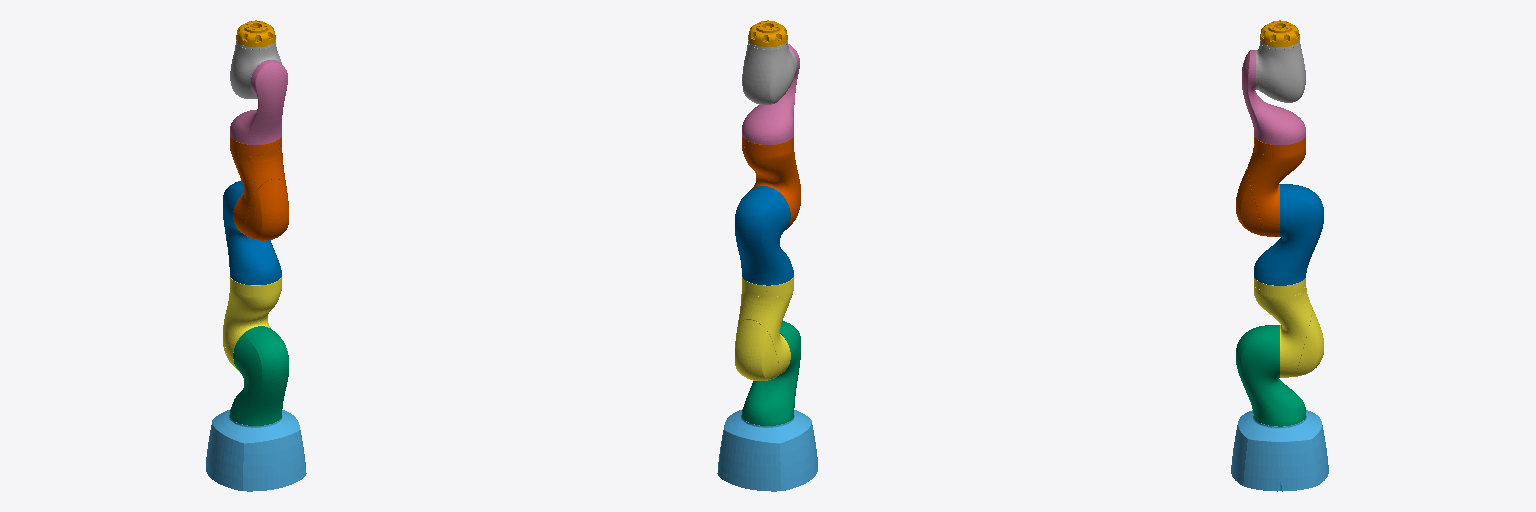
The robot description file, URDF, robot "lbr_med7":
<?xml version="1.0"?>
<!-- KUKA LBR Med 7 R800, plain URDF (xacro-expanded, ROS package paths removed).
     Source: lbr-stack/lbr_fri_ros2_stack (Apache 2.0)
     Joint limits from lbr_description/urdf/med7/joint_limits.yaml (degrees→rad).
     Visual origins are all zeroed here because the offsets have been baked into the
     OBJ mesh vertices at export time (see meshes/visual/link_N/link_N.obj). -->
<robot name="lbr_med7">

  <link name="world" />

  <joint name="lbr_world_joint" type="fixed">
    <parent link="world" />
    <child link="lbr_link_0" />
    <origin xyz="0 0 0" rpy="0 0 0" />
  </joint>

  <link name="lbr_link_0">
    <inertial>
      <origin rpy="0 0 0" xyz="-0.001896 0.0 0.076263" />
      <mass value="7.143112" />
      <inertia ixx="0.038694" ixy="0.0" ixz="-0.000686" iyy="0.039461" iyz="0.0" izz="0.054387" />
    </inertial>
    <visual>
      <origin rpy="0 0 0" xyz="0 0 0" />
      <geometry><mesh filename="meshes/visual/link_0/link_0.obj" /></geometry>
    </visual>
  </link>

  <joint name="lbr_A1" type="revolute">
    <origin rpy="0 0 0" xyz="0.0 0.0 0.1475" />
    <parent link="lbr_link_0" />
    <child link="lbr_link_1" />
    <axis xyz="0.0 0.0 1.0" />
    <limit lower="-2.9496" upper="2.9496" effort="200" velocity="1.7104" />
  </joint>

  <link name="lbr_link_1">
    <inertial>
      <origin rpy="0 0 0" xyz="0.0 -0.034819 0.123299" />
      <mass value="3.271499" />
      <inertia ixx="0.020611" ixy="0.0" ixz="0.0" iyy="0.019667" iyz="0.00366" izz="0.00729" />
    </inertial>
    <visual>
      <origin rpy="0 0 0" xyz="0 0 0" />
      <geometry><mesh filename="meshes/visual/link_1/link_1.obj" /></geometry>
    </visual>
  </link>

  <joint name="lbr_A2" type="revolute">
    <origin rpy="0 0 0" xyz="0.0 -0.0105 0.1925" />
    <parent link="lbr_link_1" />
    <child link="lbr_link_2" />
    <axis xyz="0.0 1.0 0.0" />
    <limit lower="-2.0769" upper="2.0769" effort="200" velocity="1.7104" />
  </joint>

  <link name="lbr_link_2">
    <inertial>
      <origin rpy="0 0 0" xyz="0.0 0.039793 0.086944" />
      <mass value="3.886413" />
      <inertia ixx="0.030552" ixy="0.0" ixz="0.0" iyy="0.028995" iyz="0.005676" izz="0.009317" />
    </inertial>
    <visual>
      <origin rpy="0 0 0" xyz="0 0 0" />
      <geometry><mesh filename="meshes/visual/link_2/link_2.obj" /></geometry>
    </visual>
  </link>

  <joint name="lbr_A3" type="revolute">
    <origin rpy="0 0 0" xyz="0.0 0.0105 0.2075" />
    <parent link="lbr_link_2" />
    <child link="lbr_link_3" />
    <axis xyz="0.0 0.0 1.0" />
    <limit lower="-2.9496" upper="2.9496" effort="200" velocity="1.7453" />
  </joint>

  <link name="lbr_link_3">
    <inertial>
      <origin rpy="0 0 0" xyz="0.0 0.034819 0.123299" />
      <mass value="3.271499" />
      <inertia ixx="0.020611" ixy="0.0" ixz="0.0" iyy="0.019667" iyz="-0.00366" izz="0.00729" />
    </inertial>
    <visual>
      <origin rpy="0 0 0" xyz="0 0 0" />
      <geometry><mesh filename="meshes/visual/link_3/link_3.obj" /></geometry>
    </visual>
  </link>

  <joint name="lbr_A4" type="revolute">
    <origin rpy="0 0 0" xyz="0.0 0.0105 0.1925" />
    <parent link="lbr_link_3" />
    <child link="lbr_link_4" />
    <axis xyz="0.0 -1.0 0.0" />
    <limit lower="-2.0769" upper="2.0769" effort="200" velocity="2.2688" />
  </joint>

  <link name="lbr_link_4">
    <inertial>
      <origin rpy="0 0 0" xyz="0.0 -0.039793 0.086944" />
      <mass value="3.886411" />
      <inertia ixx="0.030547" ixy="0.0" ixz="0.0" iyy="0.028993" iyz="-0.005676" izz="0.009313" />
    </inertial>
    <visual>
      <origin rpy="0 0 0" xyz="0 0 0" />
      <geometry><mesh filename="meshes/visual/link_4/link_4.obj" /></geometry>
    </visual>
  </link>

  <joint name="lbr_A5" type="revolute">
    <origin rpy="0 0 0" xyz="0.0 -0.0105 0.2075" />
    <parent link="lbr_link_4" />
    <child link="lbr_link_5" />
    <axis xyz="0.0 0.0 1.0" />
    <limit lower="-2.9496" upper="2.9496" effort="200" velocity="2.4434" />
  </joint>

  <link name="lbr_link_5">
    <inertial>
      <origin rpy="0 0 0" xyz="0.0 -0.029824 0.076267" />
      <mass value="1.474048" />
      <inertia ixx="0.008179" ixy="0.0" ixz="0.0" iyy="0.006879" iyz="0.002704" izz="0.003709" />
    </inertial>
    <visual>
      <origin rpy="0 0 0" xyz="0 0 0" />
      <geometry><mesh filename="meshes/visual/link_5/link_5.obj" /></geometry>
    </visual>
  </link>

  <joint name="lbr_A6" type="revolute">
    <origin rpy="0 0 0" xyz="0.0 -0.0707 0.1925" />
    <parent link="lbr_link_5" />
    <child link="lbr_link_6" />
    <axis xyz="0.0 1.0 0.0" />
    <limit lower="-2.0769" upper="2.0769" effort="200" velocity="3.1415" />
  </joint>

  <link name="lbr_link_6">
    <inertial>
      <origin rpy="0 0 0" xyz="-1.0e-06 7.102e-02 4.953e-03" />
      <mass value="2.316911" />
      <inertia ixx="0.006813" ixy="0.0" ixz="0.0" iyy="0.006559" iyz="0.0003" izz="0.004462" />
    </inertial>
    <visual>
      <origin rpy="0 0 0" xyz="0 0 0" />
      <geometry><mesh filename="meshes/visual/link_6/link_6.obj" /></geometry>
    </visual>
  </link>

  <joint name="lbr_A7" type="revolute">
    <origin rpy="0 0 0" xyz="0.0 0.0707 0.091" />
    <parent link="lbr_link_6" />
    <child link="lbr_link_7" />
    <axis xyz="0.0 0.0 1.0" />
    <limit lower="-3.0369" upper="3.0369" effort="200" velocity="3.1415" />
  </joint>

  <link name="lbr_link_7">
    <inertial>
      <origin rpy="0 0 0" xyz="3.0e-06 -2.0e-06 1.3782e-02" />
      <mass value="0.250108" />
      <inertia ixx="0.000165" ixy="0.0" ixz="0.0" iyy="0.000165" iyz="0.0" izz="0.000288" />
    </inertial>
    <visual>
      <origin rpy="0 0 0" xyz="0 0 0" />
      <geometry><mesh filename="meshes/visual/link_7/link_7.obj" /></geometry>
    </visual>
  </link>

  <joint name="lbr_joint_ee" type="fixed">
    <parent link="lbr_link_7" />
    <child link="lbr_link_ee" />
    <origin xyz="0 0 0.035" rpy="0 0 0" />
  </joint>

  <link name="lbr_link_ee" />

</robot>

--- Facts derived from the render (not from the file) ---
3 views of the same robot in one strip: view 1: azimuth 30°, elevation 25°; view 2: azimuth 150°, elevation 25°; view 3: azimuth 270°, elevation 25° (orthographic).
Robot: lbr_med7 — 10 links, 9 joints (7 revolute, 2 fixed); root link world; default pose: all joints at 0.
Visible links, largest first — view 1: lbr_link_0, lbr_link_4, lbr_link_1, lbr_link_5, lbr_link_3, lbr_link_2, lbr_link_6, lbr_link_7; view 2: lbr_link_0, lbr_link_2, lbr_link_3, lbr_link_1, lbr_link_6, lbr_link_4, lbr_link_5, lbr_link_7; view 3: lbr_link_0, lbr_link_3, lbr_link_1, lbr_link_4, lbr_link_2, lbr_link_5, lbr_link_6, lbr_link_7.
Boxes of the visible links, x1,y1,x2,y2 form: lbr_link_0: (206, 409, 306, 491); lbr_link_4: (230, 137, 288, 240); lbr_link_1: (230, 326, 288, 425); lbr_link_5: (230, 60, 287, 144); lbr_link_3: (223, 180, 281, 284); lbr_link_2: (223, 277, 281, 371); lbr_link_6: (230, 40, 281, 98); lbr_link_7: (236, 20, 275, 46); lbr_link_0: (717, 409, 817, 491); lbr_link_2: (735, 277, 793, 380); lbr_link_3: (735, 186, 793, 285); lbr_link_1: (742, 321, 800, 425); lbr_link_6: (742, 40, 796, 104); lbr_link_4: (742, 137, 800, 229); lbr_link_5: (742, 44, 799, 144); lbr_link_7: (748, 20, 787, 46); lbr_link_0: (1231, 410, 1328, 491); lbr_link_3: (1254, 184, 1323, 285); lbr_link_1: (1236, 325, 1305, 426); lbr_link_4: (1236, 136, 1305, 236); lbr_link_2: (1254, 278, 1323, 377); lbr_link_5: (1242, 50, 1305, 144); lbr_link_6: (1256, 40, 1305, 102); lbr_link_7: (1260, 20, 1299, 46).
Bounding box of the posed robot: 0.2525 × 0.2525 × 1.27 m (x, y, z).
Meshes: 8 distinct files referenced, 8 mesh visuals loaded (8 OBJ).
